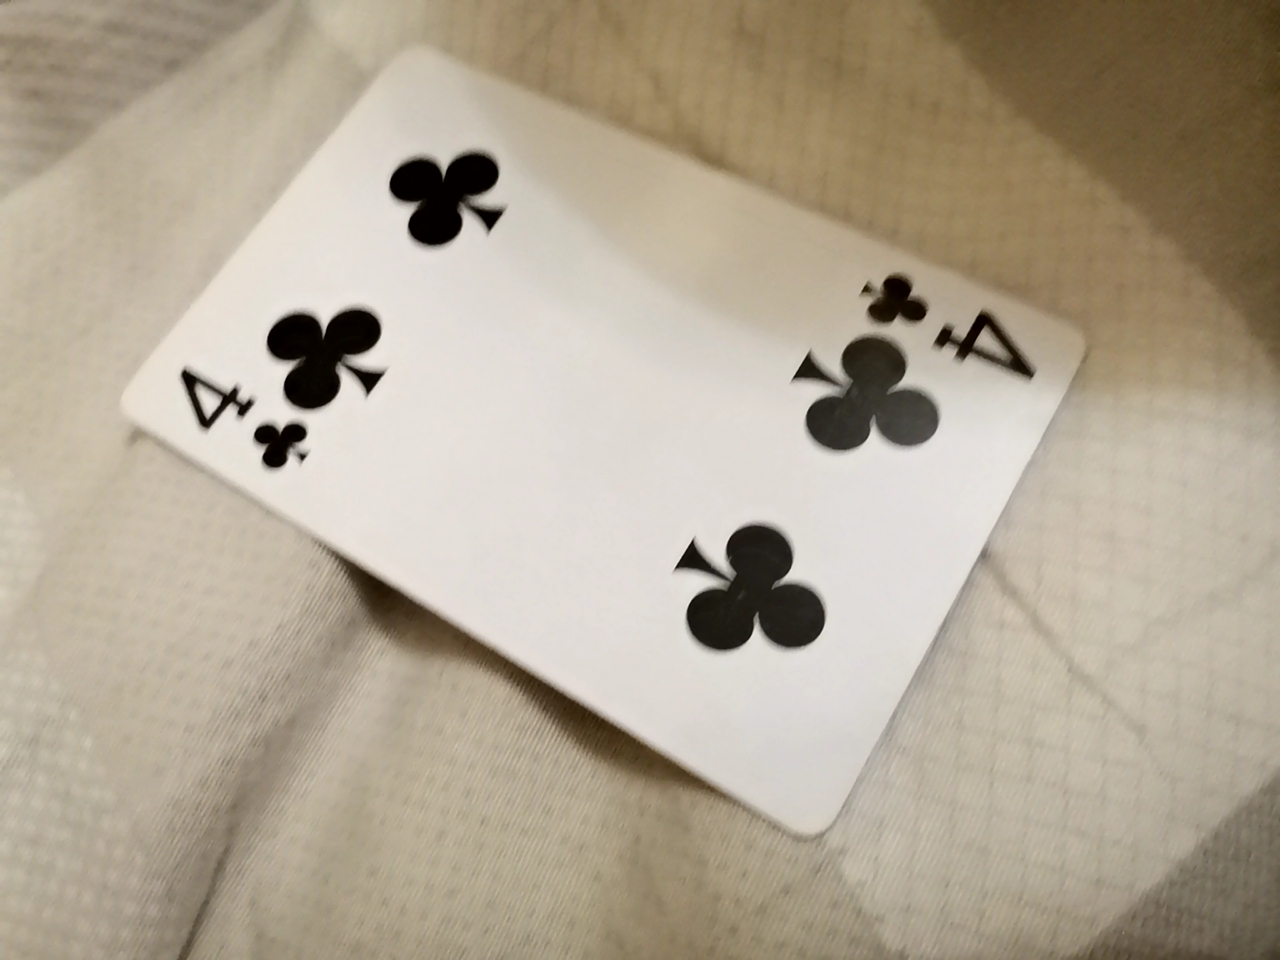mh 4: (106, 41, 1094, 849)
